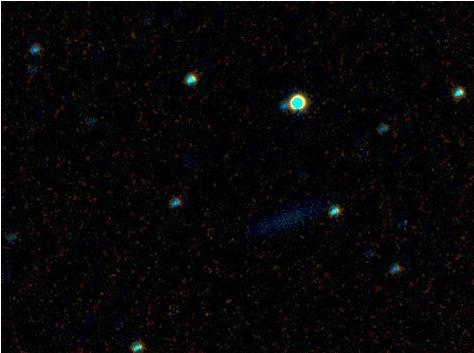star: (193, 299, 223, 329)
